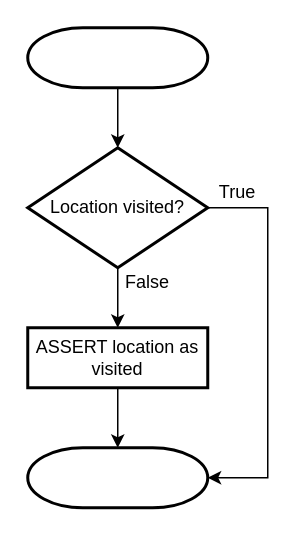
This 306x534 diagram has some shape labels left out. The shapes that lost their labels are listed below. From the top down, each one's box as (x1, y1, x2, y2) in pixels, then its label:
(26, 26, 208, 88): Start
(26, 446, 208, 508): End
